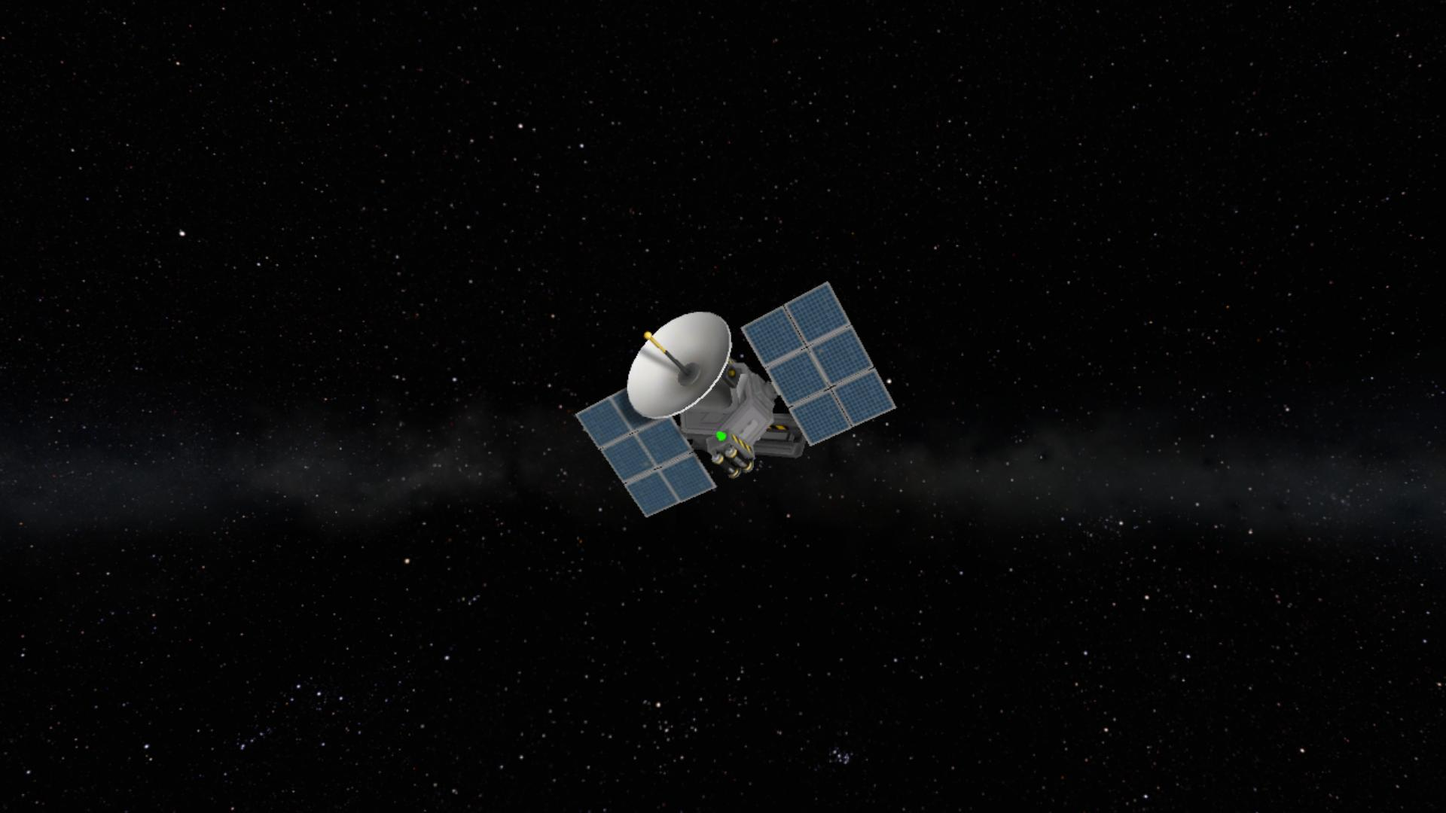antenna: (624, 310, 733, 421)
body: (679, 355, 779, 458)
solar: (738, 279, 899, 448), (574, 386, 718, 520)
